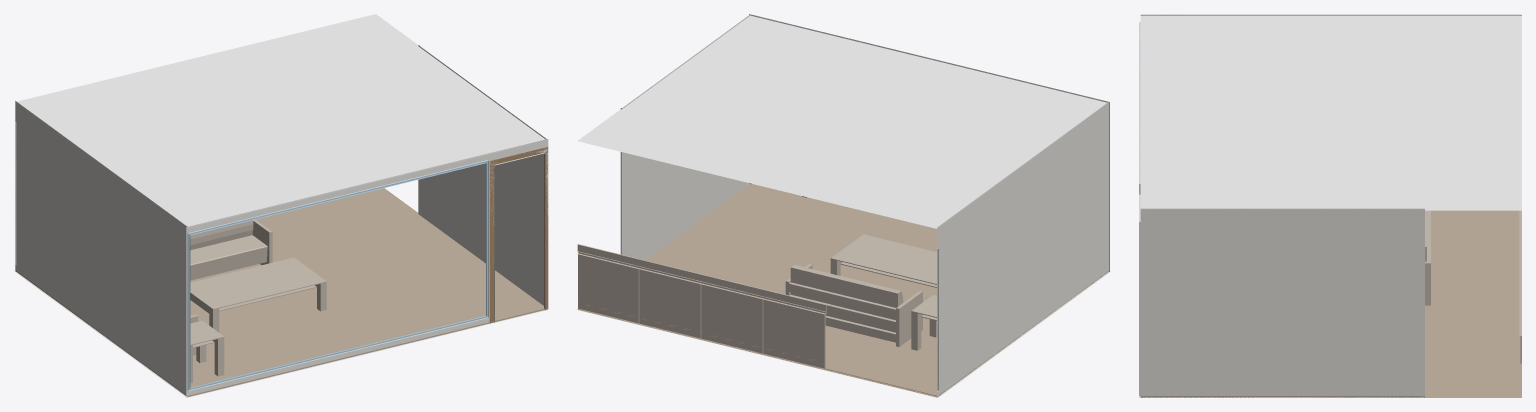
File: duplex_living_room.glb
The picture shows the model from 3 angles, left to right: view 1: azimuth 30°, elevation 25°; view 2: azimuth 150°, elevation 25°; view 3: azimuth 270°, elevation 25°; orthographic projection. The views are drawn at different scales.
Visible parts, largest first — view 1: RoofSolar; view 2: RoofSolar; view 3: RoofSolar.
Part boxes in pixels (bbox=[...]): RoofSolar: bbox=[14, 14, 548, 397]; RoofSolar: bbox=[577, 14, 1110, 397]; RoofSolar: bbox=[1139, 14, 1521, 397].
Size of the model in its own units: 5.82 by 2.62 by 4.82.
